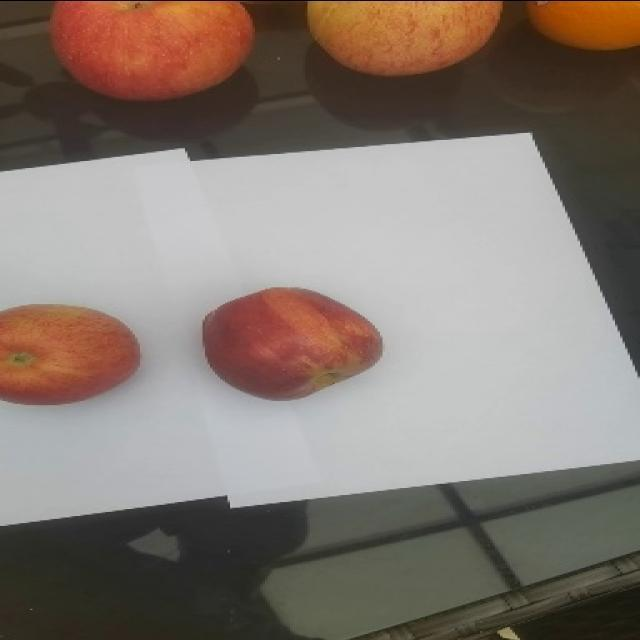Apple: (48, 0, 262, 108), (197, 288, 389, 404), (304, 0, 510, 100), (0, 299, 152, 411)
Orange: (530, 0, 640, 61)
